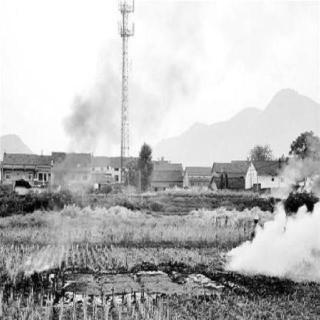Fire: (48, 180, 64, 200)
